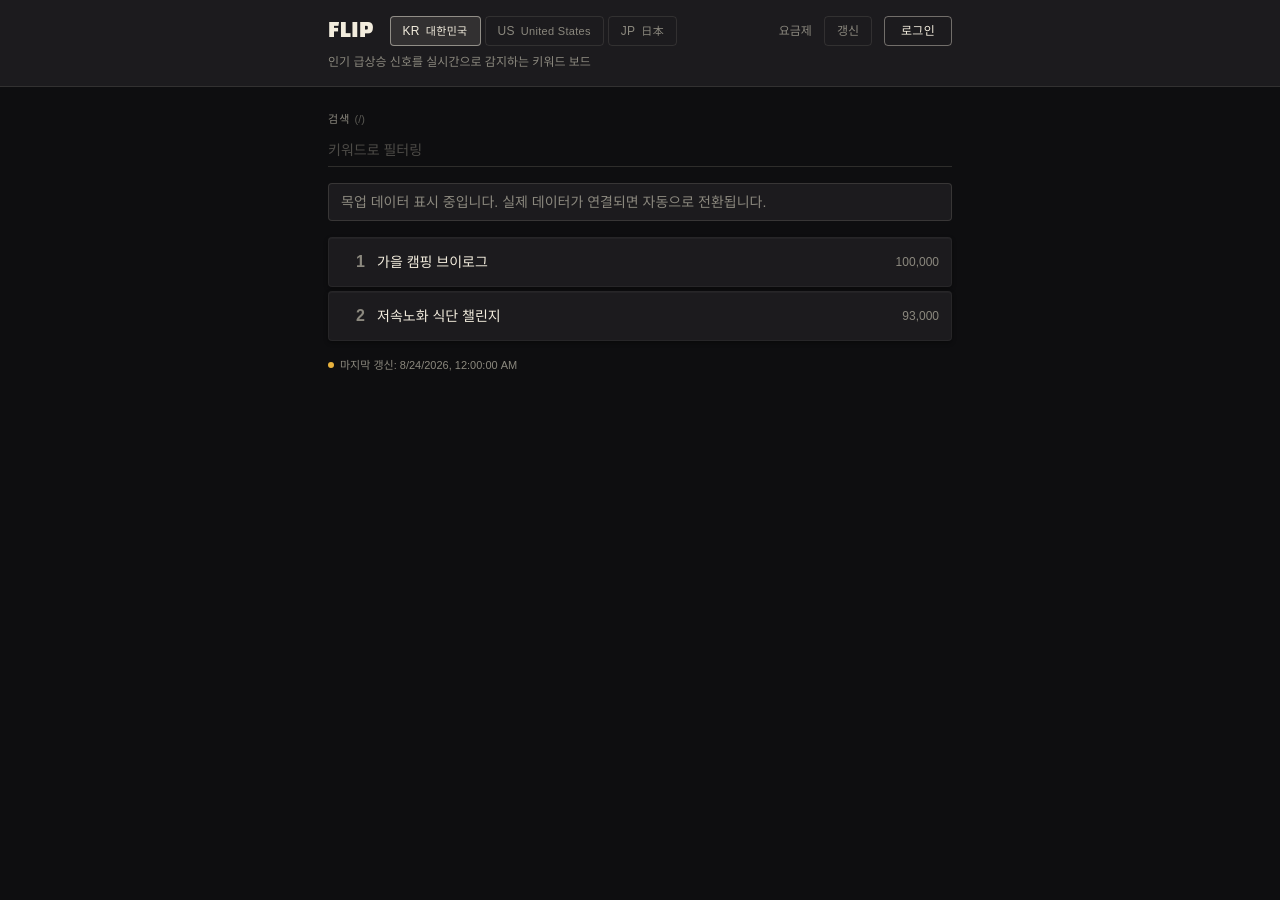
Test case: Home dashboard › shows a clear message instead of a chart when a keyword has too little history
This screenshot has width=1280, height=900.
Click the button "가을 캠핑 브이로그". click: (432, 262)
box: [377,248,884,276]
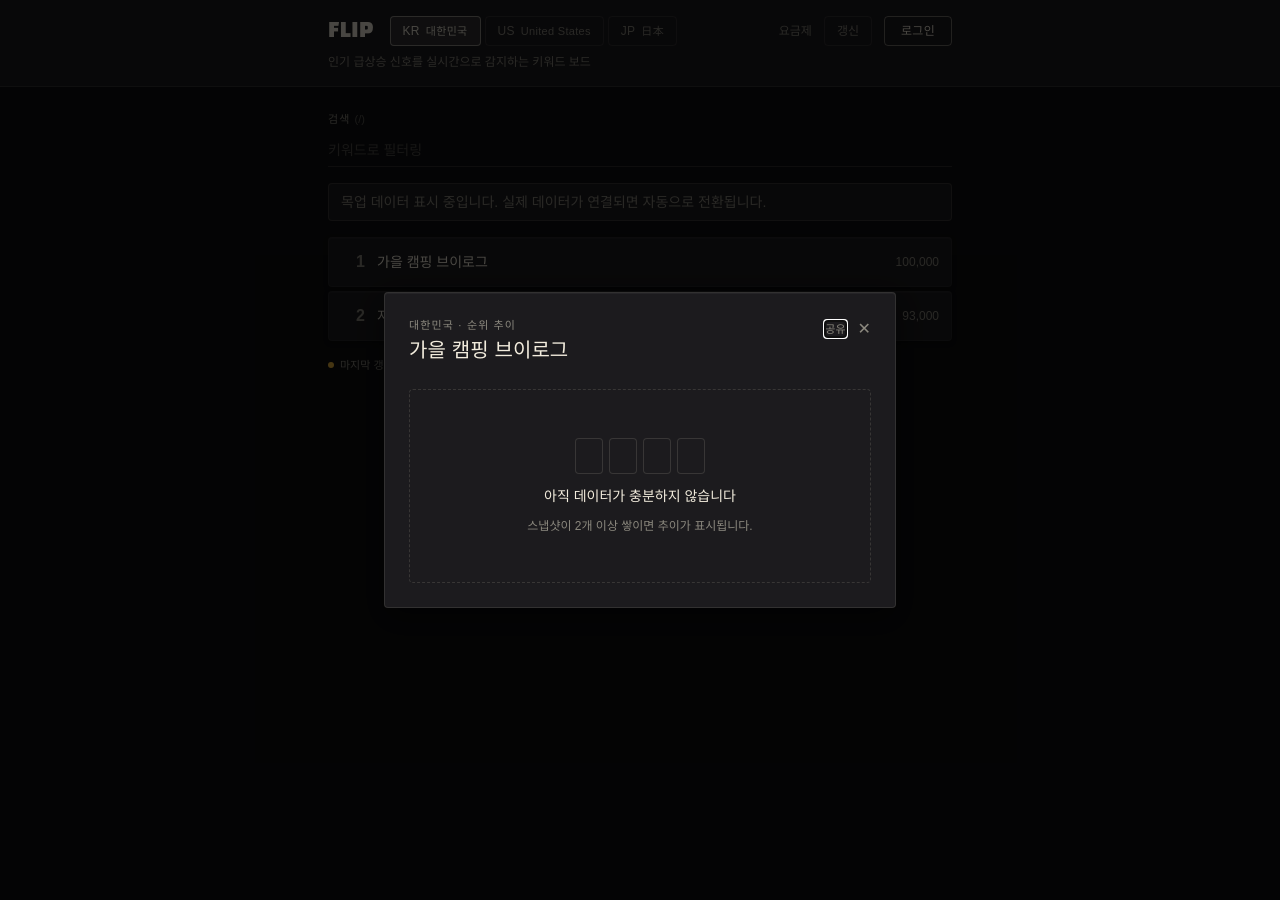
Now the text "아직 데이터가 충분하지 않습니다" is shown, box [544,486,736,506]
